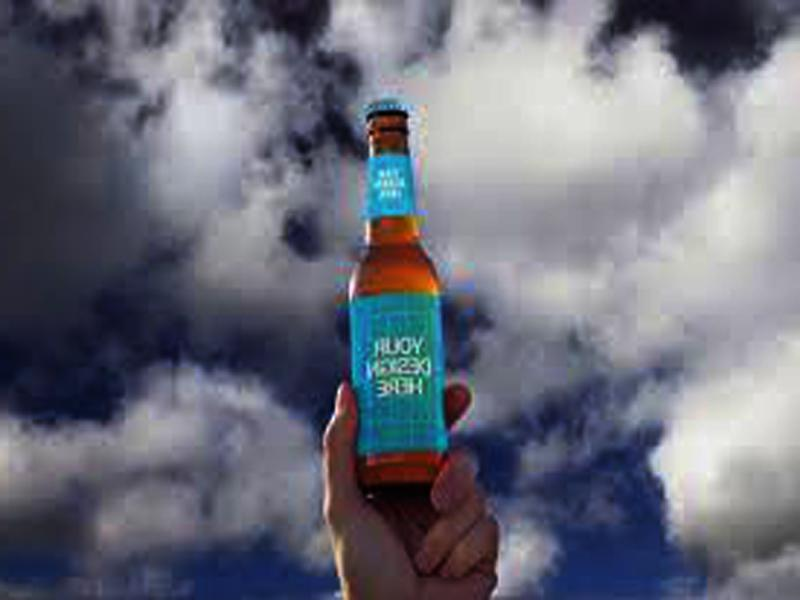Beer: (348, 102, 438, 492)
